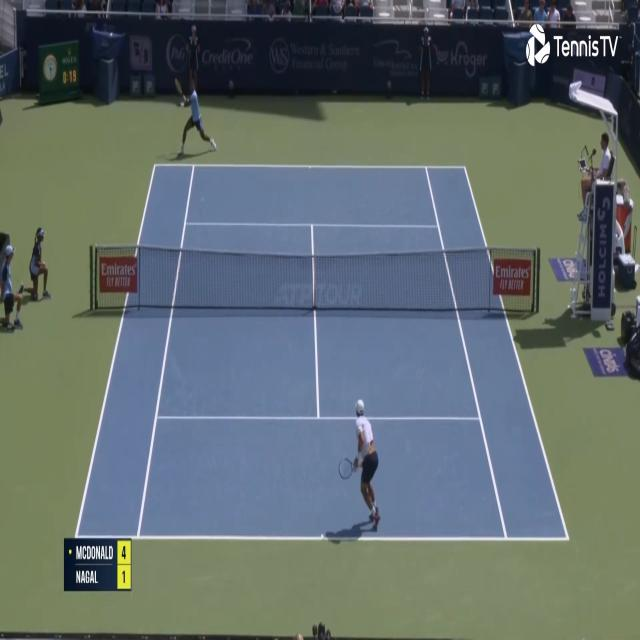tennis-player: (337, 394, 386, 532), (176, 63, 220, 160)
